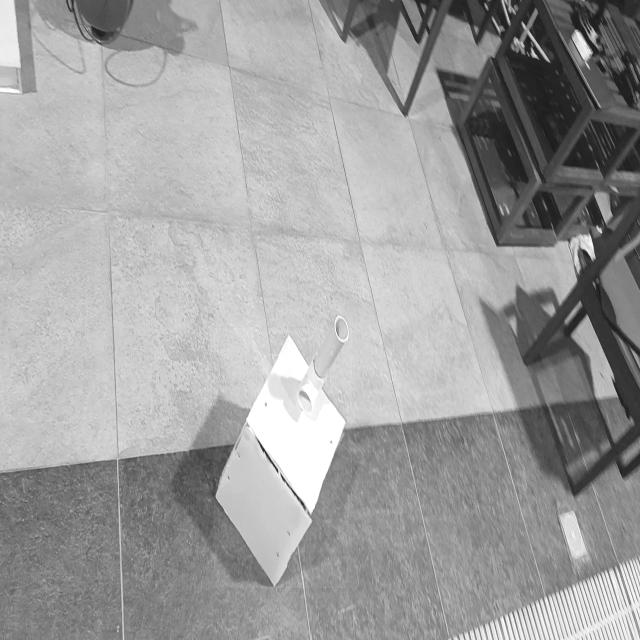Cube: (214, 328, 352, 588)
